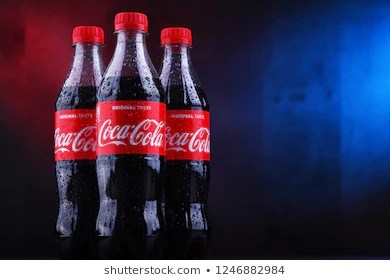coke-bottle-700ml: (95, 13, 168, 257), (157, 27, 215, 256), (55, 24, 107, 242)
